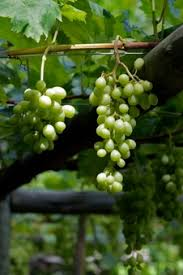grapes: (90, 66, 153, 199), (15, 84, 70, 156)
